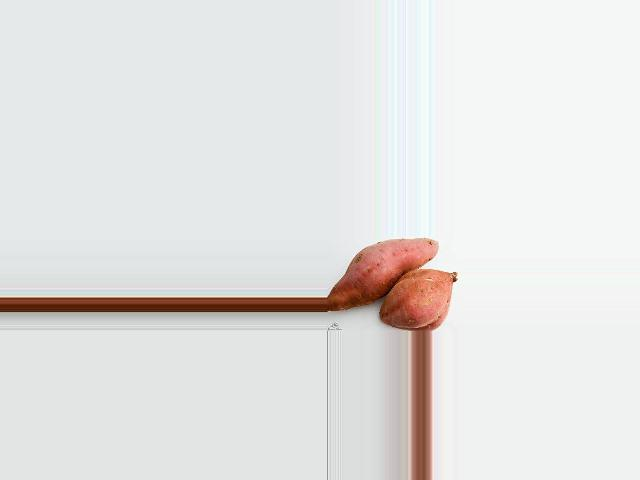sweet_potato: (383, 274, 458, 323)
